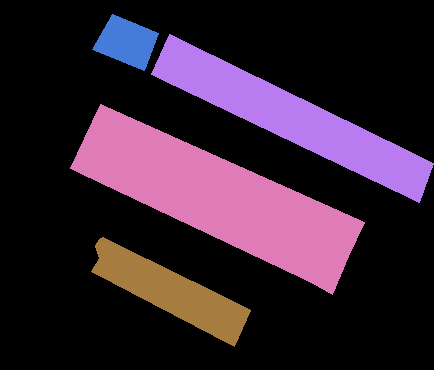parkingspot: (151, 34, 433, 202), (70, 136, 348, 294), (84, 104, 364, 258), (91, 237, 250, 346), (92, 14, 158, 70)
